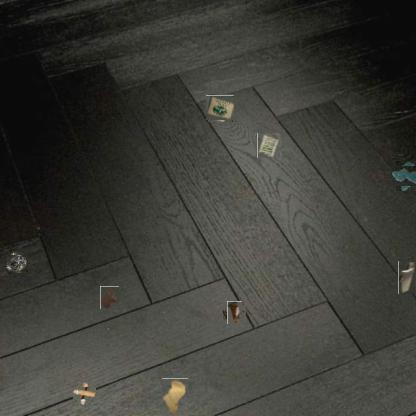dirty: (162, 378, 188, 415), (207, 95, 234, 121), (257, 133, 281, 158), (398, 260, 415, 294), (7, 253, 27, 273), (225, 303, 244, 322), (75, 384, 93, 402)
liquid: (393, 163, 416, 188), (100, 286, 119, 309)
